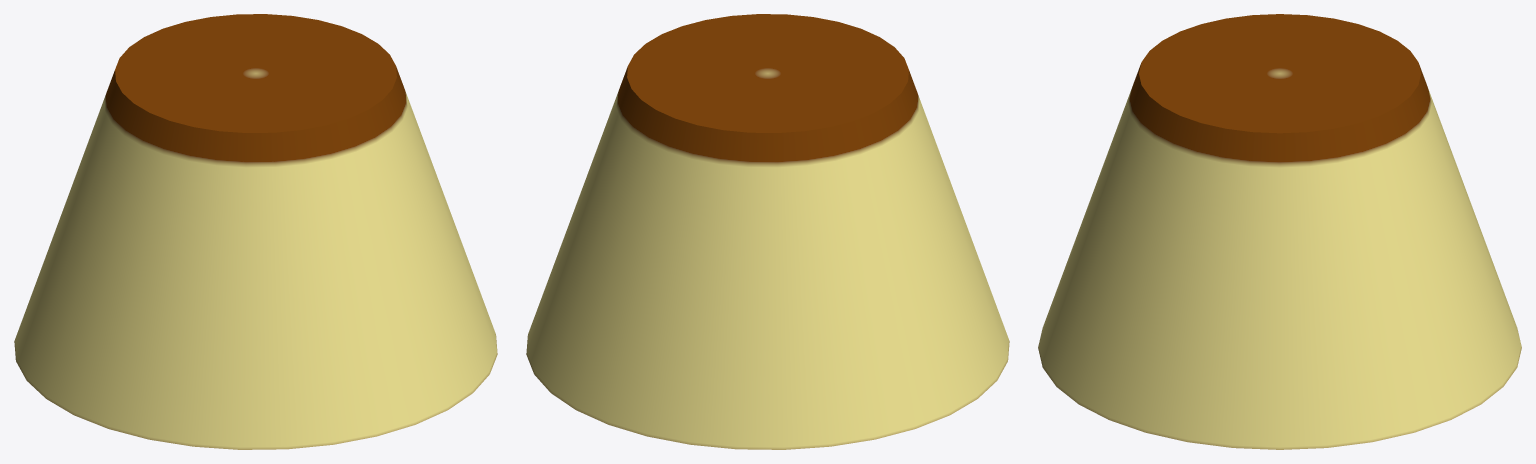
Rendered from pudding.fbx.
3 views of the same model, side by side, from view 1: azimuth 30°, elevation 25°; view 2: azimuth 150°, elevation 25°; view 3: azimuth 270°, elevation 25° (orthographic).
Visible parts, largest first — view 1: Pudding; view 2: Pudding; view 3: Pudding.
Part boxes in pixels (x1=…): Pudding: x1=14, y1=14, x2=497, y2=449; Pudding: x1=526, y1=14, x2=1009, y2=449; Pudding: x1=1038, y1=14, x2=1521, y2=449.
Bounding box in the file's own units: 10 × 6.25 × 10.
